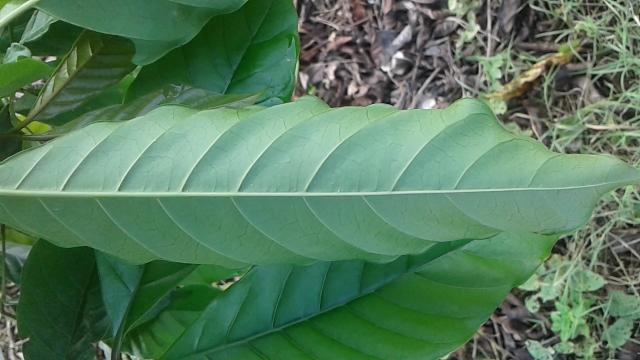healthy: (0, 93, 640, 272)
